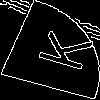K: (25, 25, 95, 74)
